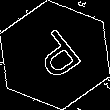P_SE: (23, 24, 87, 86)
